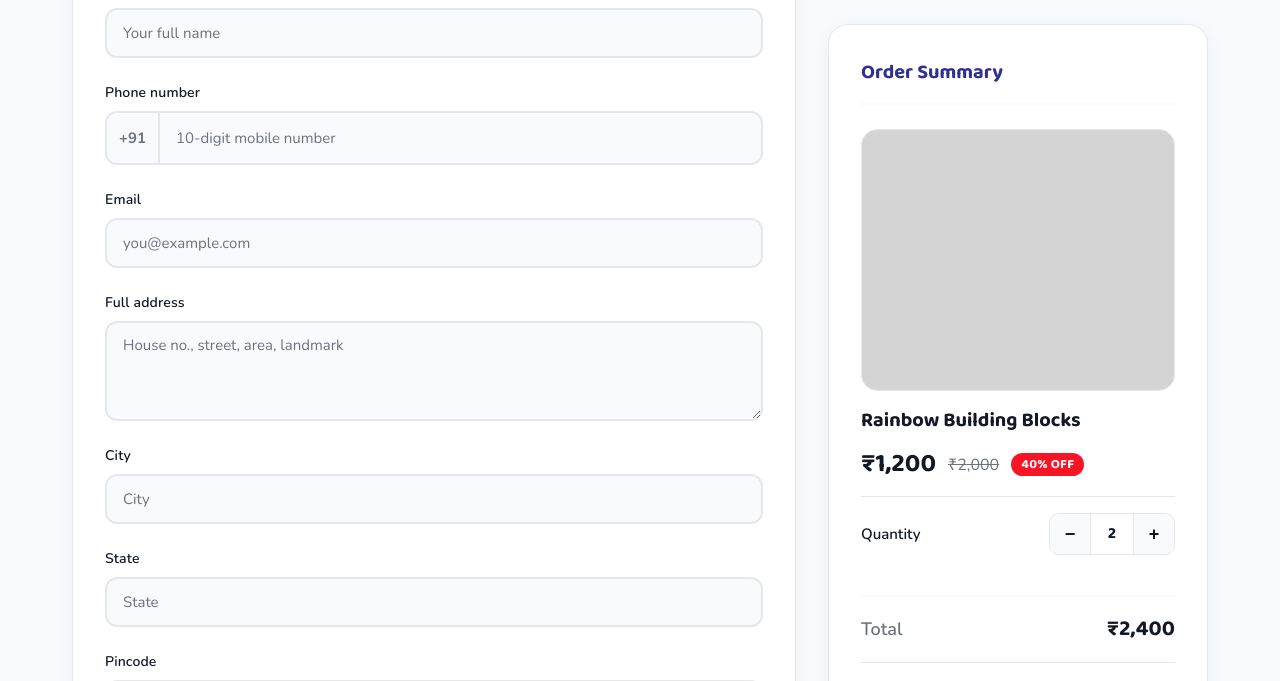
Test case: CheckoutPage › adjusts quantity with the +/- control and recomputes the total (Req 4.1)
(page scrolled)
Expected: the heading "Rainbow Building Blocks" is shown, [861,404,1081,436]
Expected: the text with test id "summary-total" shows "2,400", [1107,611,1175,647]
Click the button named "increase quantity": (1154, 534) [1134,514,1174,554]
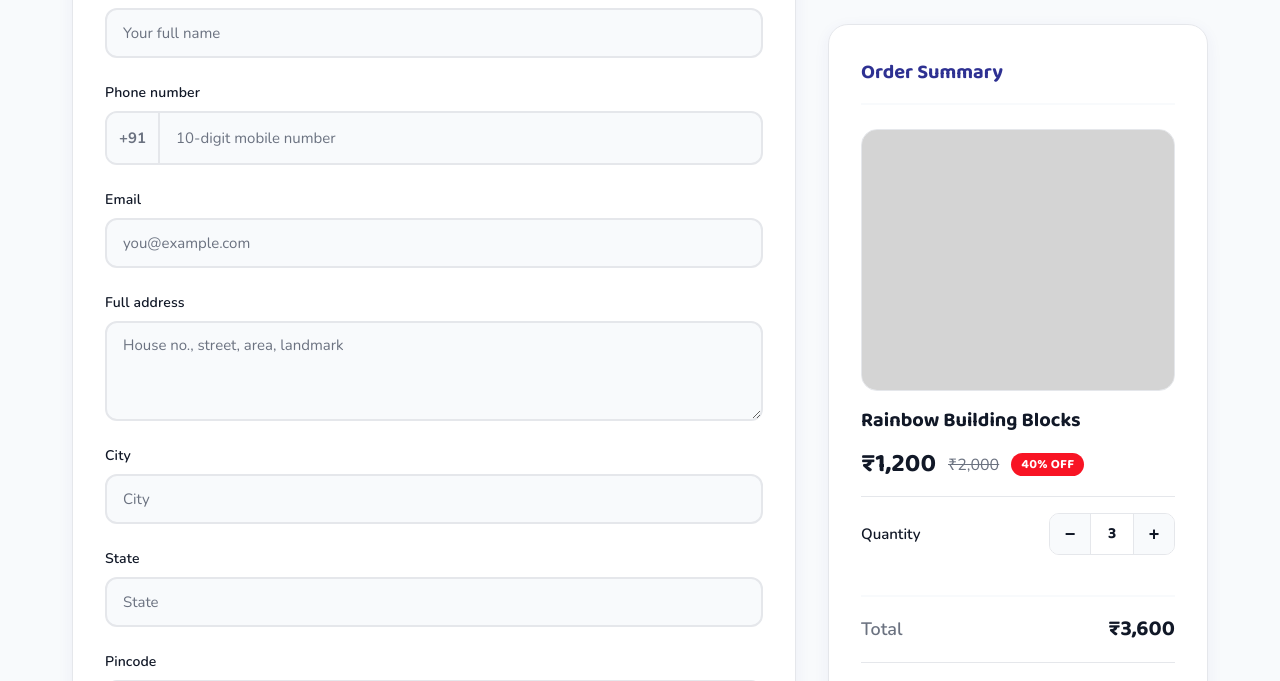
Expected: the text with test id "summary-quantity" reads "3", [1108,521,1116,546]
Expected: the text with test id "summary-total" shows "3,600", [1108,611,1175,647]
Click the button named "decrease quantity": (1070, 534) [1050,514,1090,554]
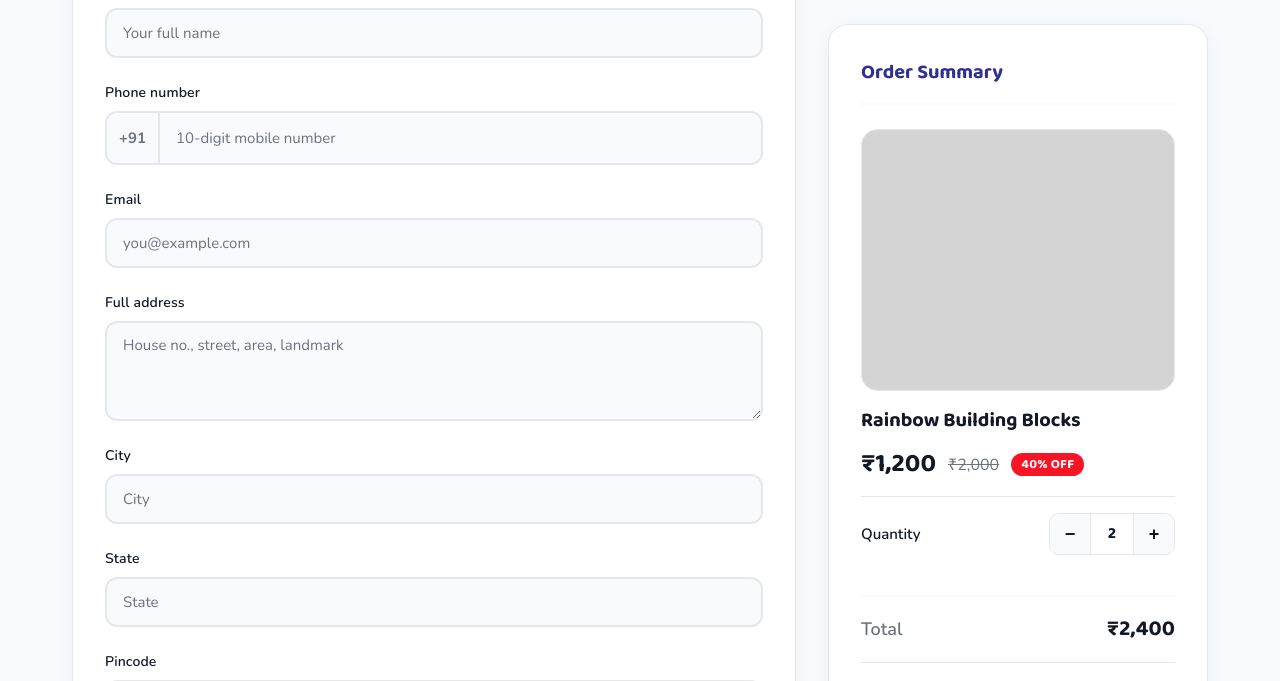
Click the button named "decrease quantity": (1070, 534) [1050,514,1090,554]
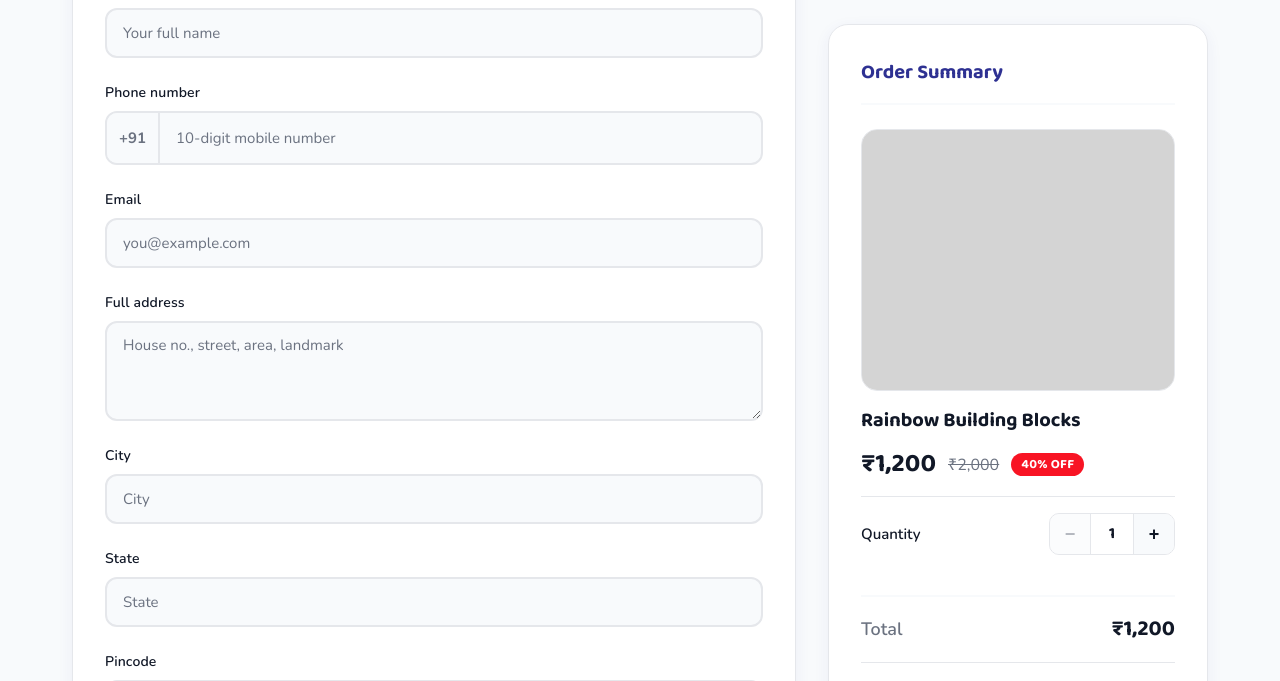
Expected: the text with test id "summary-quantity" reads "1", [1109,521,1115,546]
Expected: the text with test id "summary-total" shows "1,200", [1112,611,1175,647]
